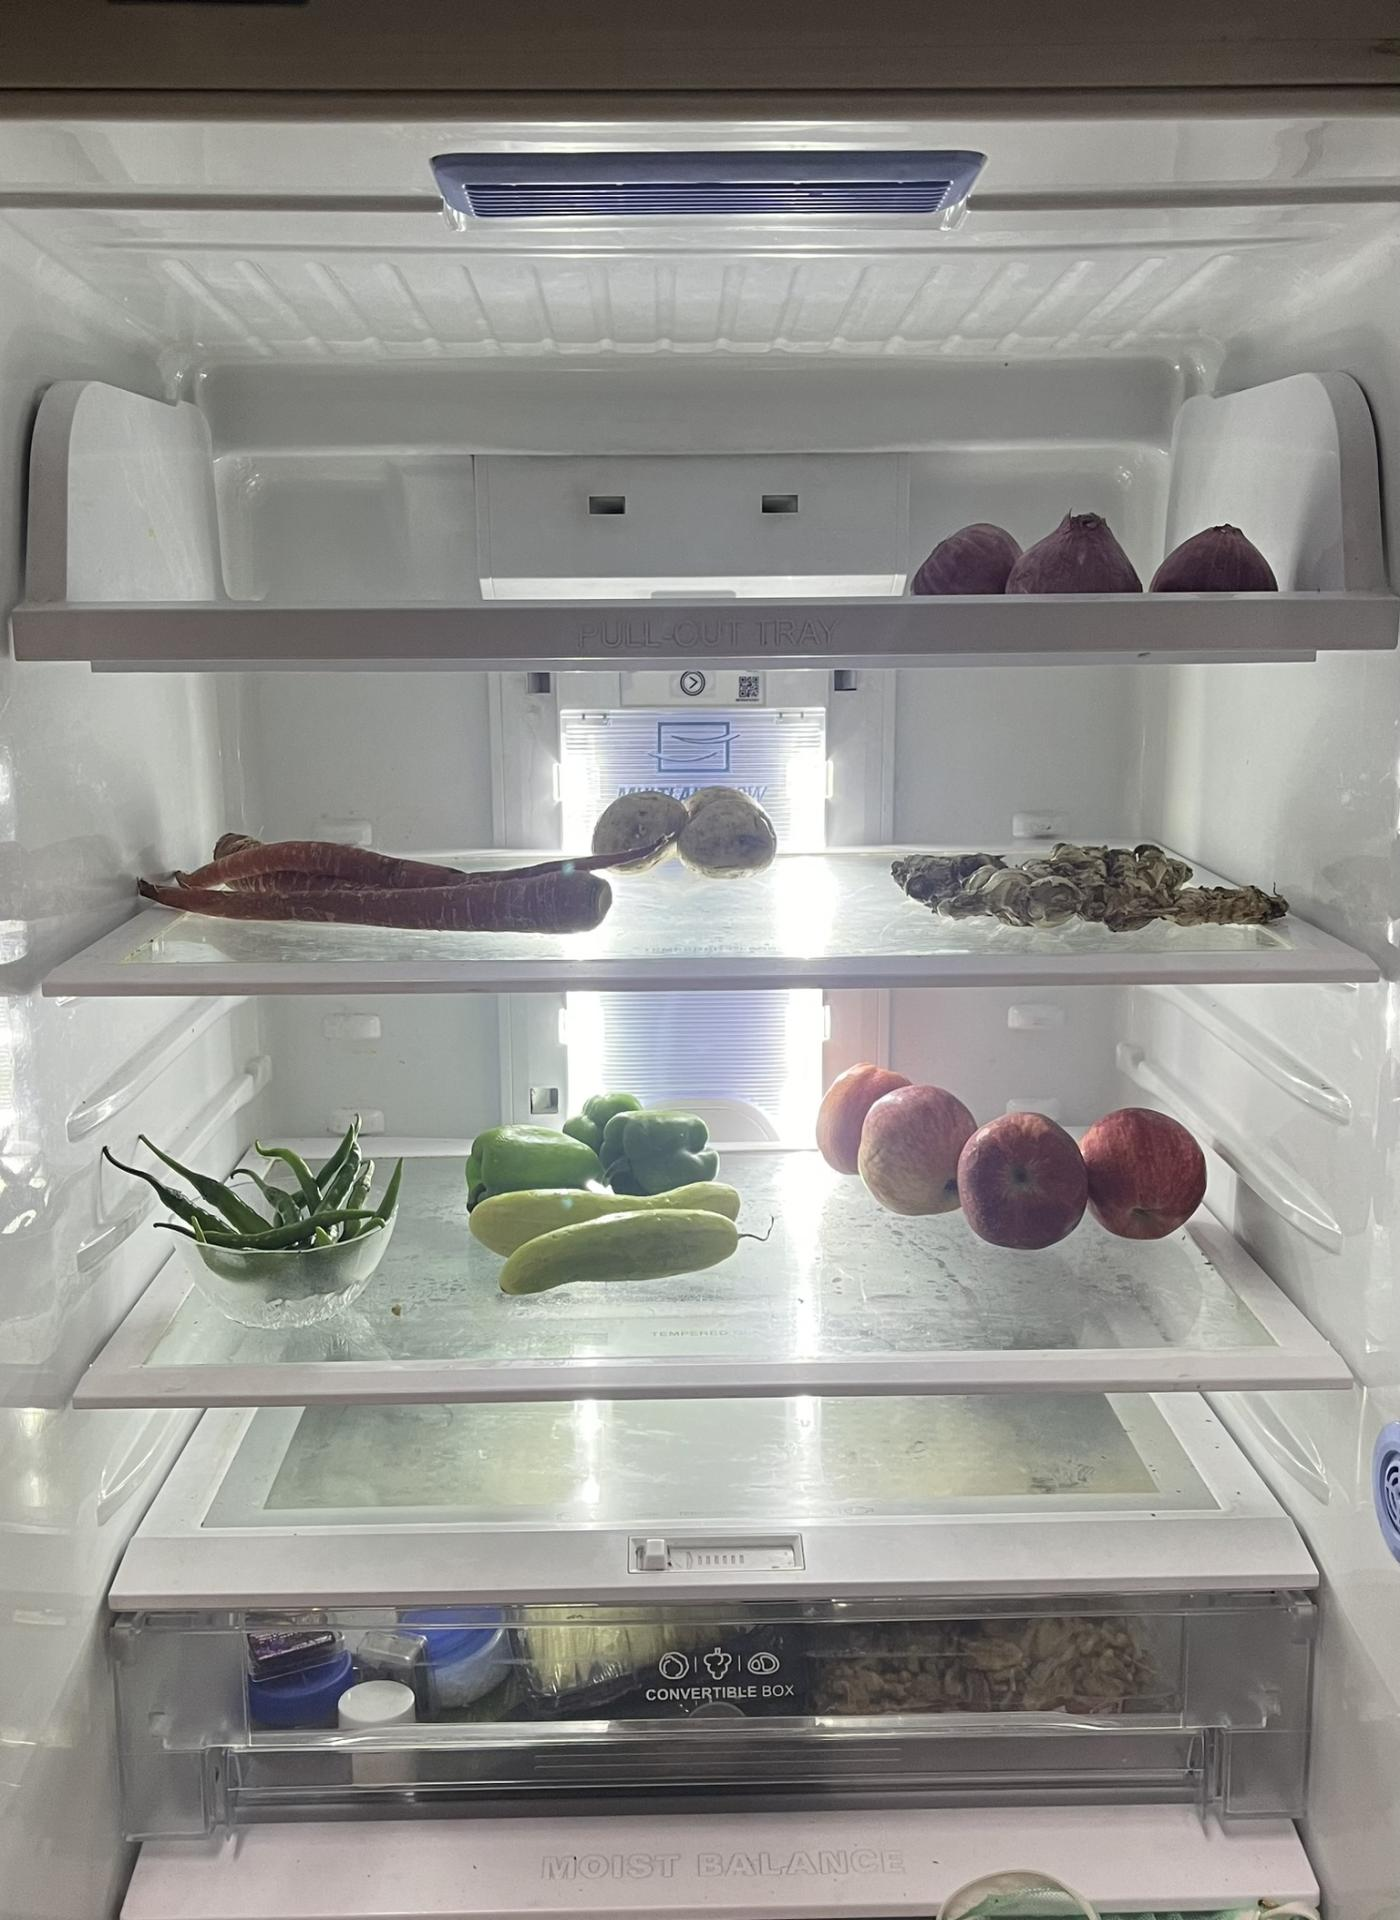apple: (1085, 1106, 1215, 1249)
capsicum: (468, 1097, 720, 1175)
carrots: (140, 833, 626, 929)
chillies: (808, 1052, 1094, 1257), (113, 1137, 410, 1288)
cucumber: (471, 1181, 756, 1294)
onion: (914, 507, 1151, 593), (1151, 528, 1279, 590)
potato: (890, 838, 1288, 935), (601, 787, 781, 875)
